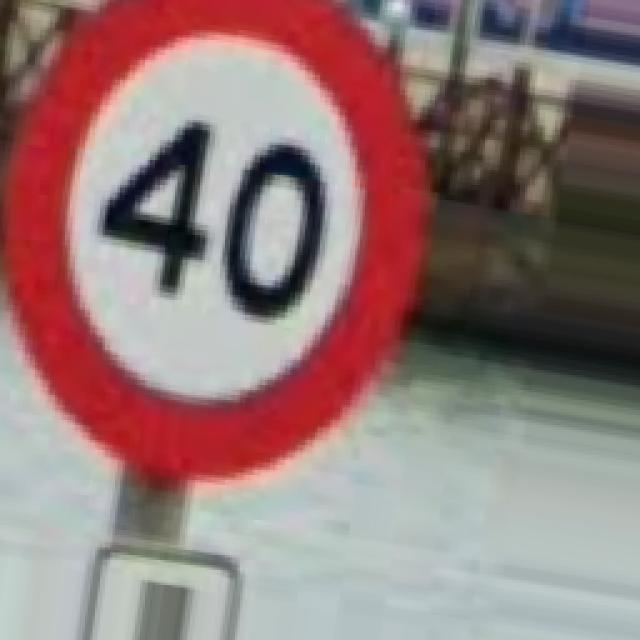Speed Limit -40-: (5, 0, 425, 480)
